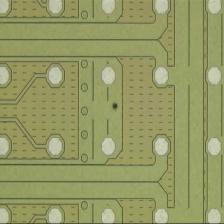PARTICLE: (110, 101, 122, 113)
